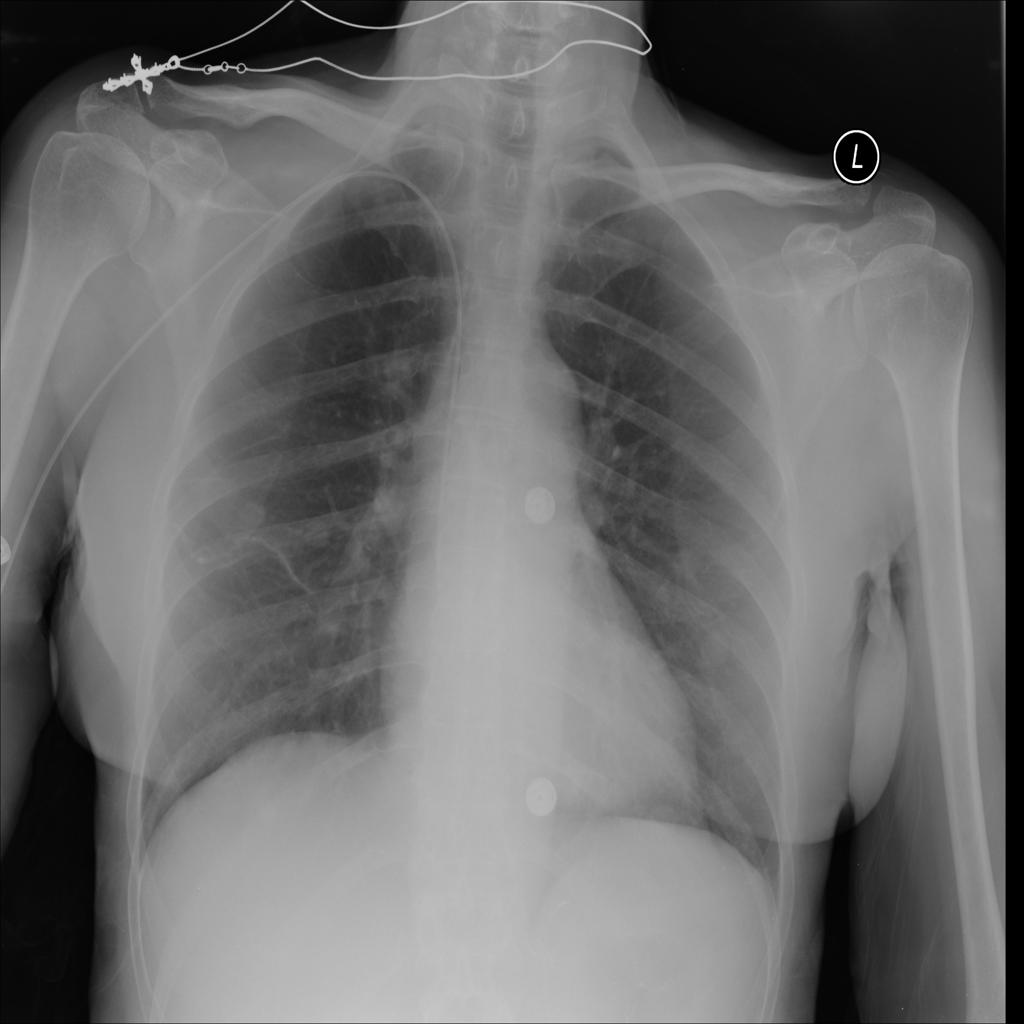nodule: (685, 612, 749, 686), (223, 489, 277, 539), (635, 793, 692, 840), (292, 503, 342, 556)
